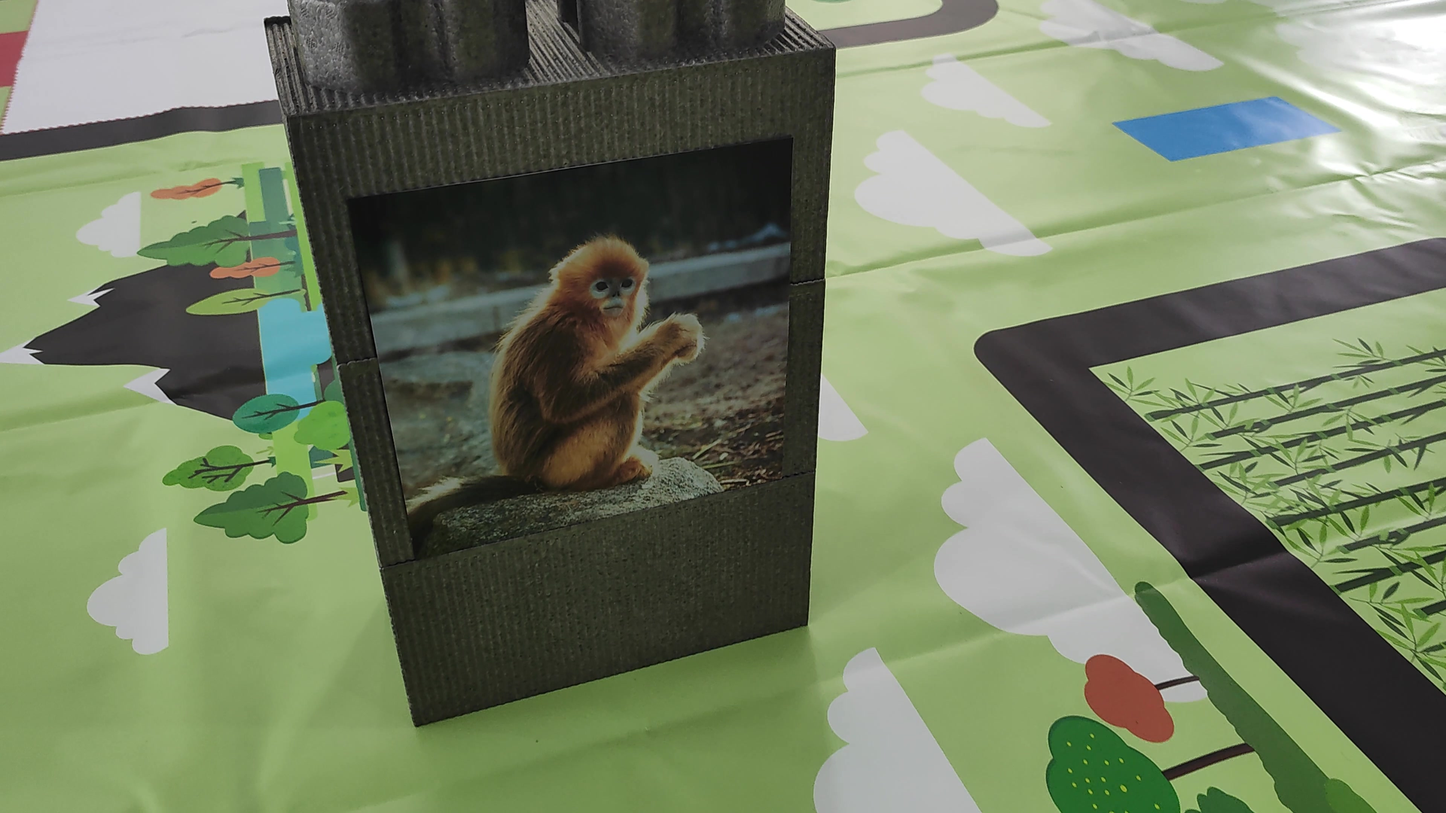monkey: (391, 230, 720, 530)
